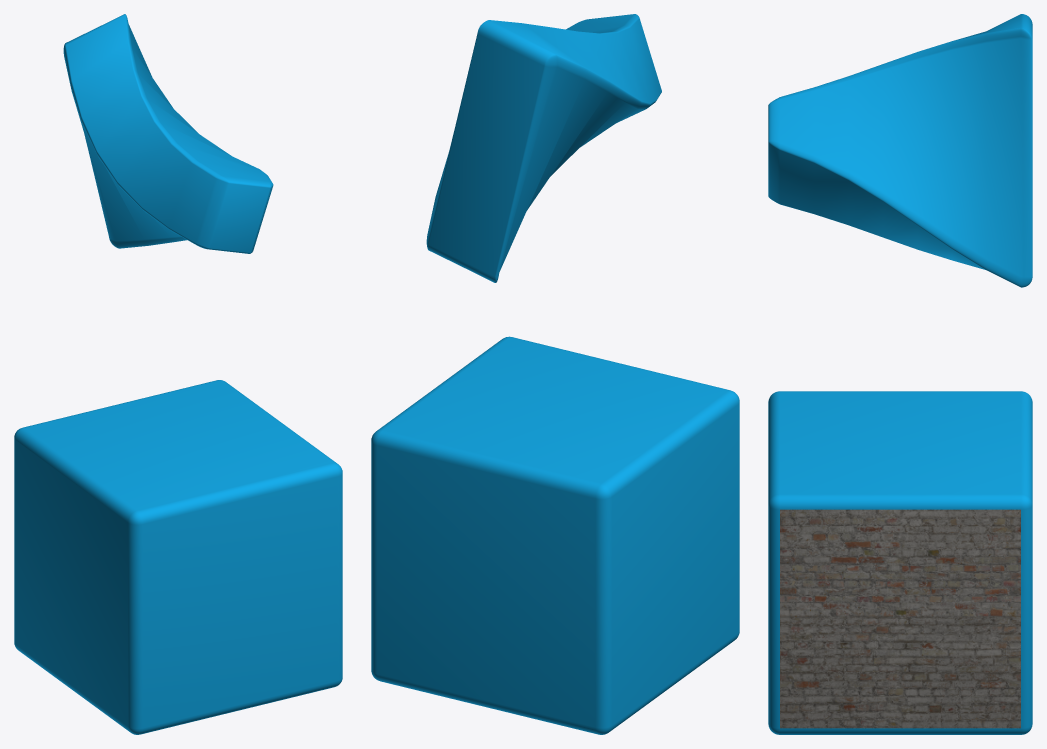
Rendered from cube_multi_mat_2_mesh.fbx.
3 views of the same model, side by side, from view 1: azimuth 30°, elevation 25°; view 2: azimuth 150°, elevation 25°; view 3: azimuth 270°, elevation 25° (orthographic). The views are drawn at different scales.
Parts seen in each view (by area): view 1: Cube, Twisty; view 2: Cube, Twisty; view 3: Cube, Twisty.
Part boxes in pixels (x1,y1,x2,y2): Cube: [14, 380, 342, 734]; Twisty: [63, 14, 273, 253]; Cube: [371, 336, 739, 734]; Twisty: [426, 14, 661, 282]; Cube: [768, 391, 1032, 734]; Twisty: [768, 14, 1032, 287].
Bounding box in the file's own units: 507 × 1389 × 507.
